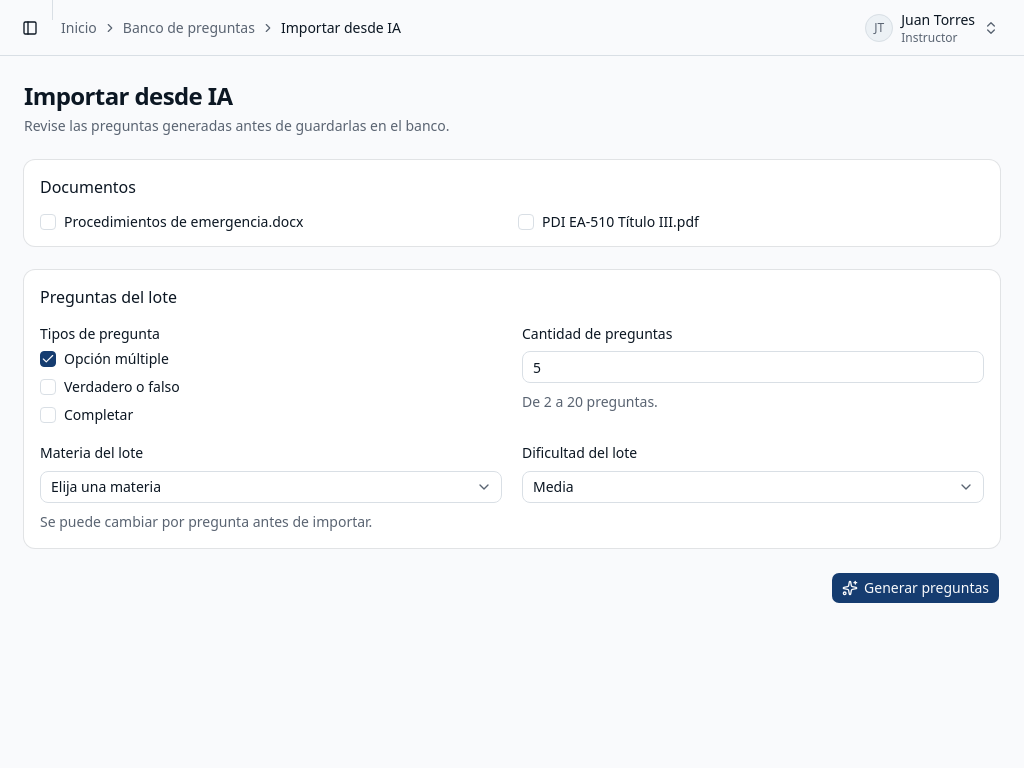
Importar preguntas desde IA › CA-IMP-03 un mensaje que no está en la lista del contrato se reemplaza por E8
Expected: the field labelled "Cantidad de preguntas" is shown, [522,351,984,383]
Click the checkbox named "PDI EA-510 Título III.pdf" next to "PDI EA-510 Título III.pdf" at (526, 222), box [518,214,534,230]
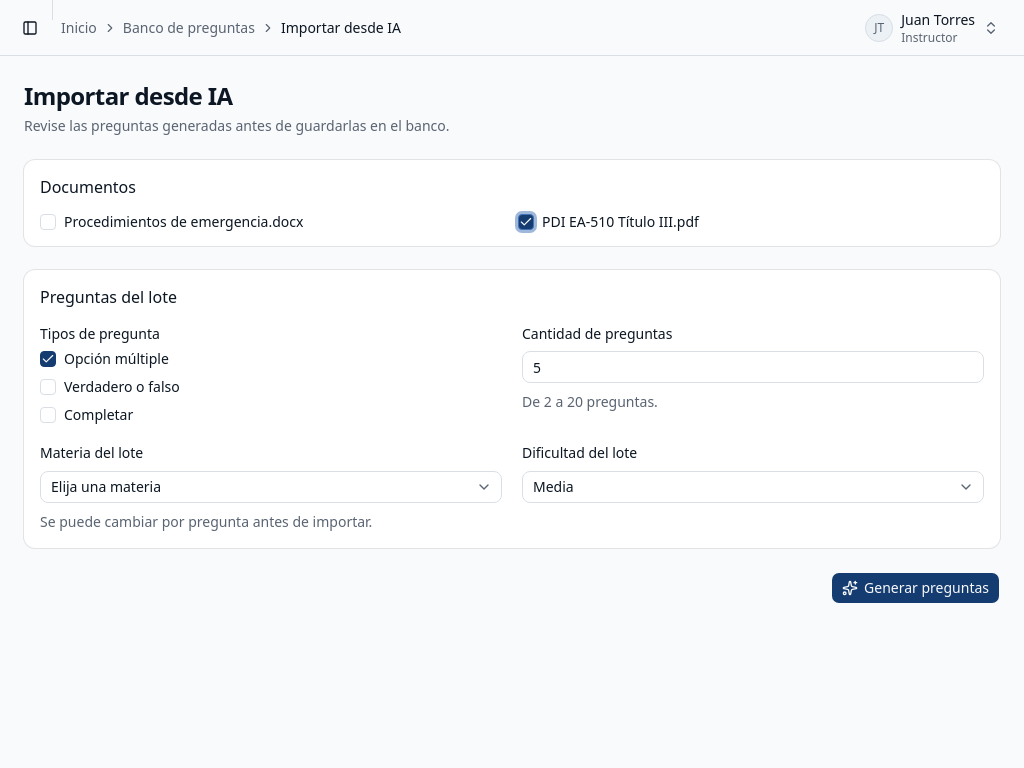
Select "Adoctrinamiento de Vuelo" in the dropdown labelled "Materia del lote" at (271, 486), box [40,470,502,502]
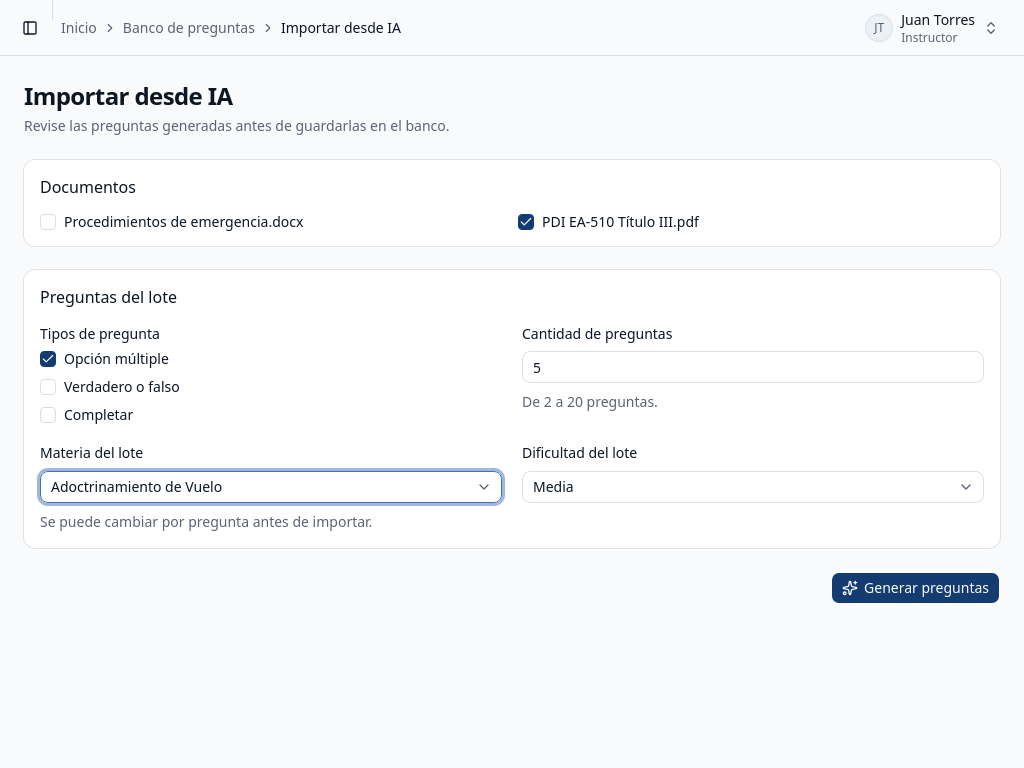
Replace the text in the field labelled "Cantidad de preguntas" with "7" at (753, 367), box [522,351,984,383]
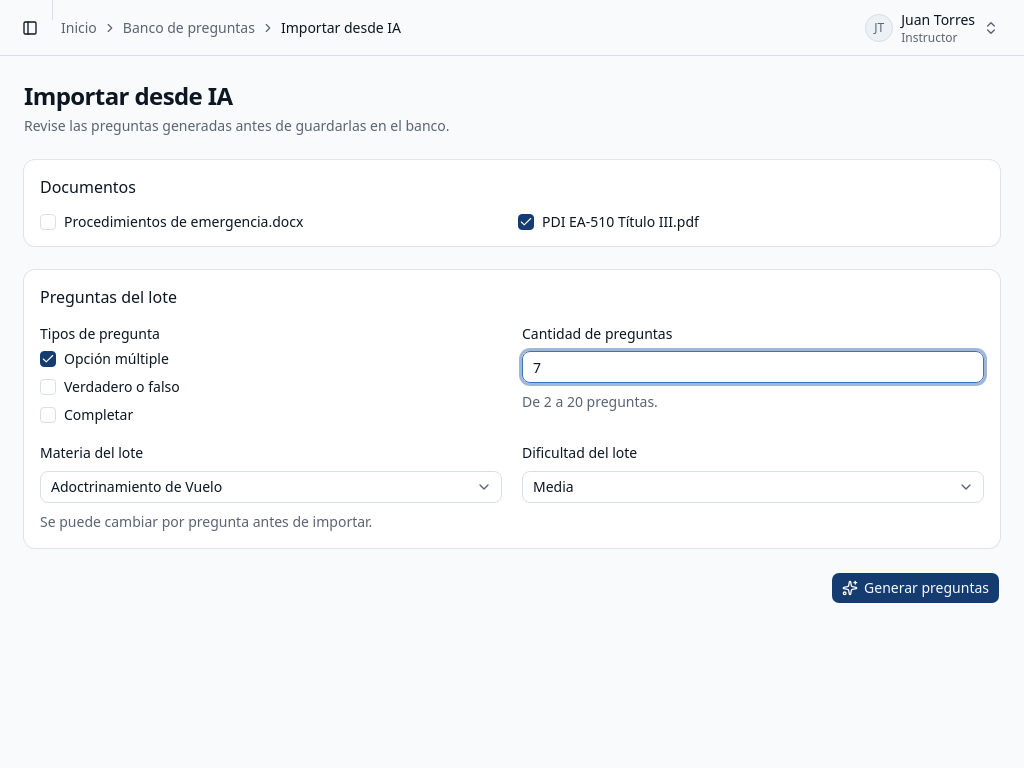
Click the button "Generar preguntas" at (916, 588), box [831,572,1000,604]
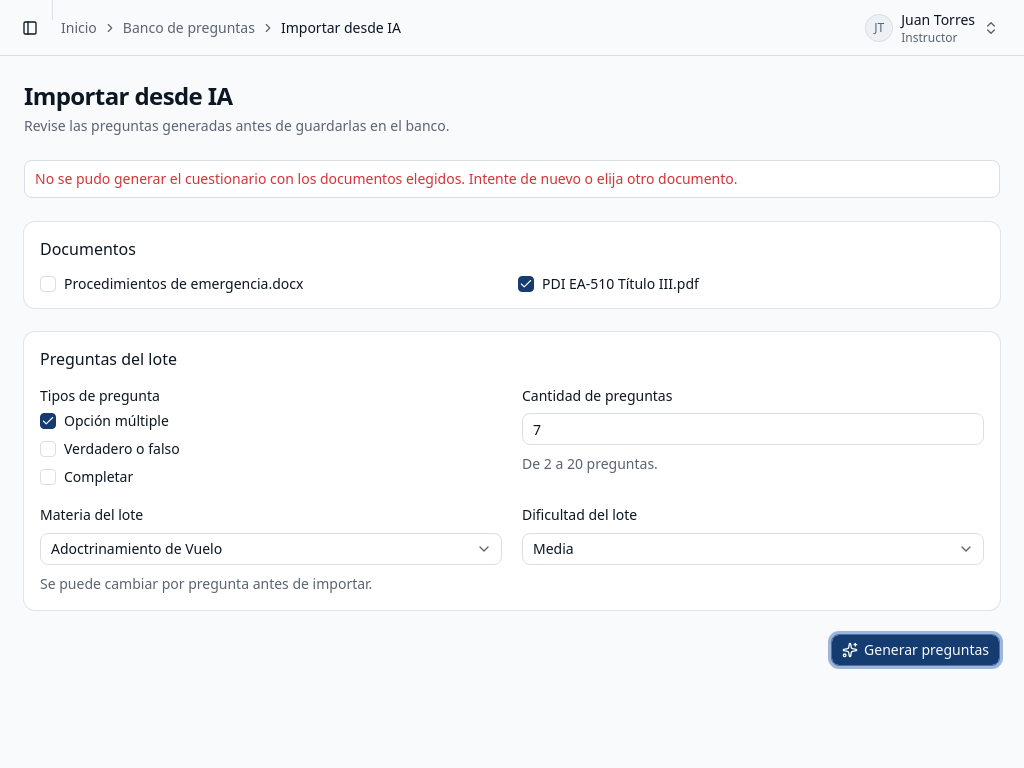
Expected: the text "No se pudo generar el cuestionario con los documentos elegidos. Intente de nuevo o elija otro documento." is shown, [35,169,738,188]
